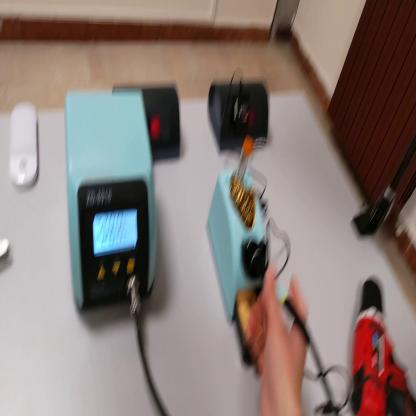electric screwdriver: (347, 277, 416, 412)
hand: (254, 268, 312, 414)
socket: (112, 77, 185, 167), (207, 71, 272, 164)
welder base: (203, 136, 278, 368)
welder probe tip: (249, 263, 307, 353)
welder station: (58, 83, 160, 317)
